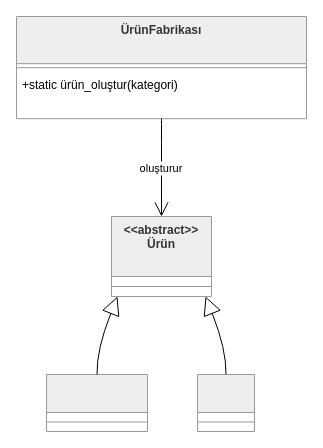
Some shapes in this 323 by 448 pixel diagram are drawn without their labels. The centre of each missing label's shape, as x and y in pixels:
"Elektronik" goes at [97,403].
"Gıda" goes at [225,403].
